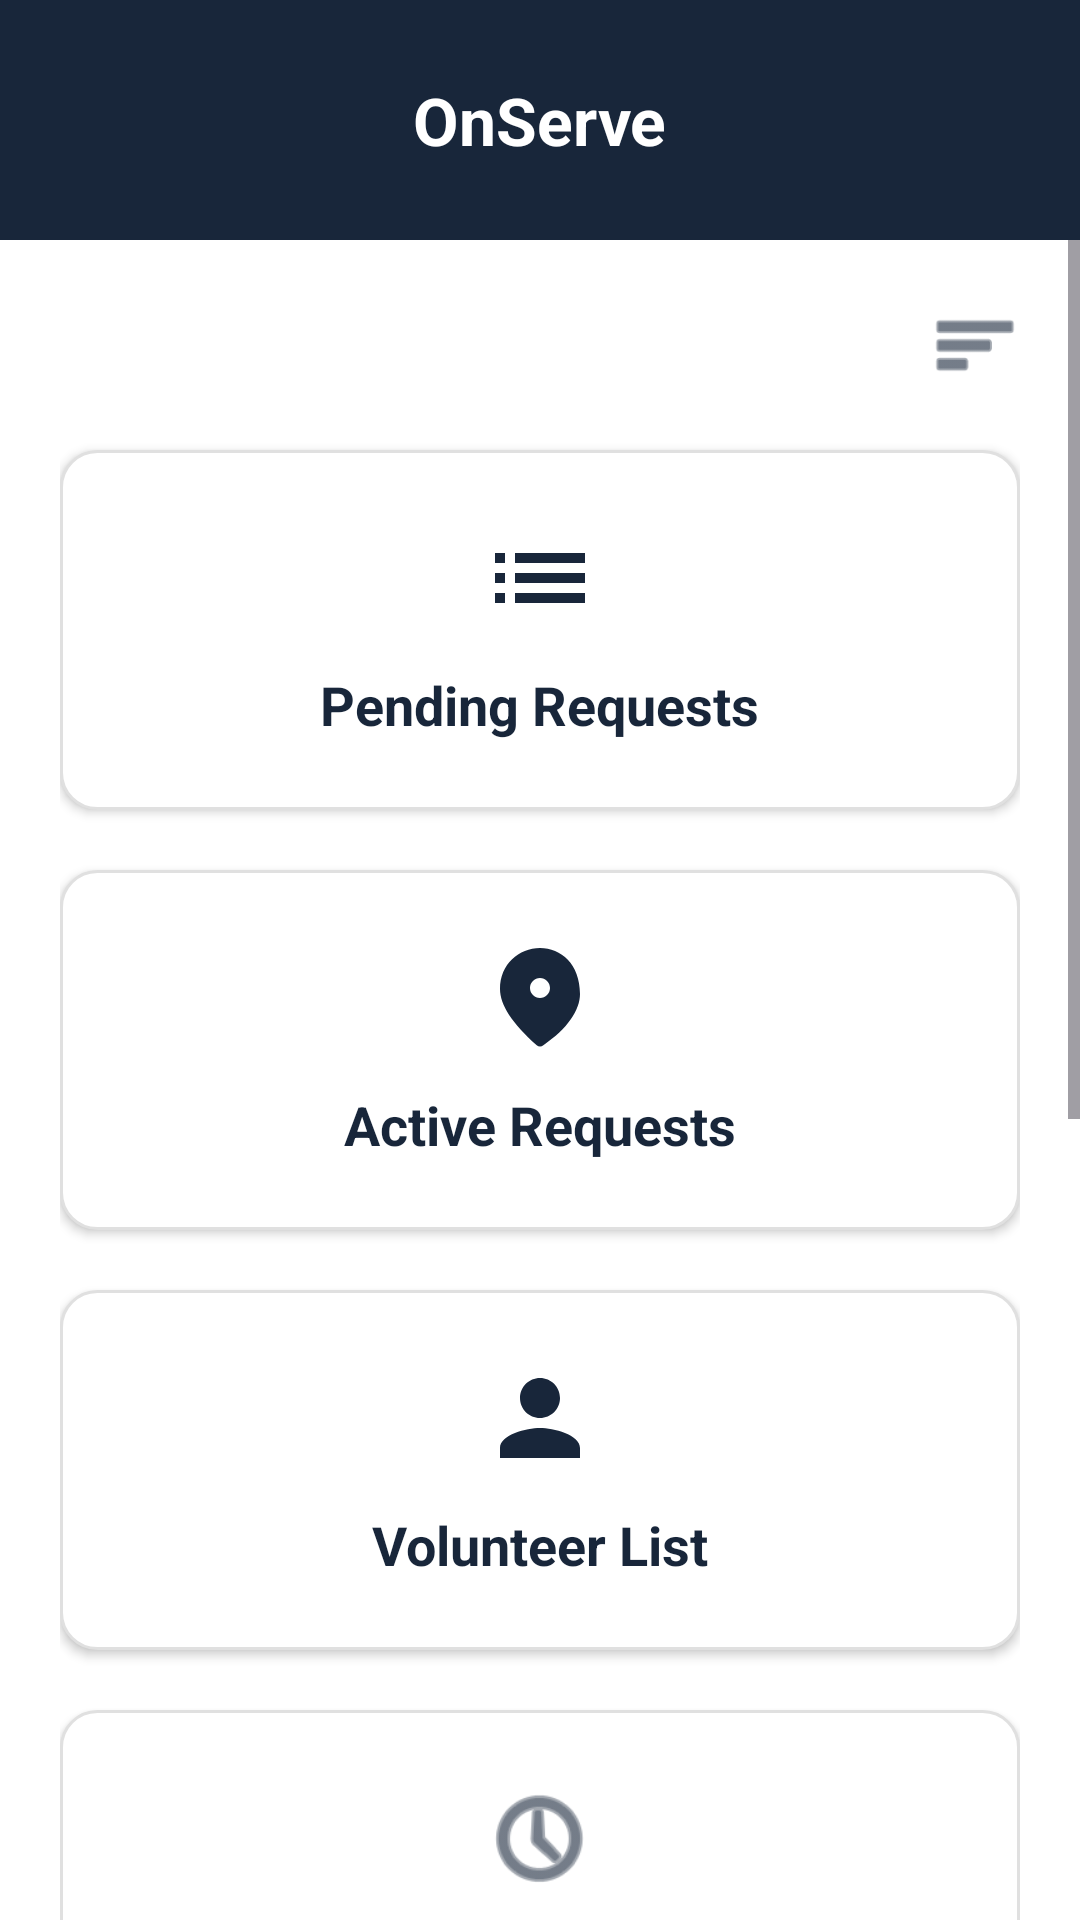

Named icons in this screenshot (1080px x 1920px) and their bounding boxes, [x1=x1, y1=y1, x2=x2, y2=y2]:
location: [x1=500, y1=948, x2=580, y2=1047]
profile: [x1=500, y1=1378, x2=580, y2=1458]
recent history: [x1=496, y1=1795, x2=583, y2=1882]
sort by size: [x1=936, y1=320, x2=1014, y2=371]
